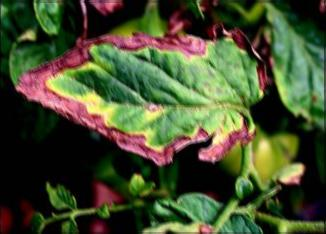Tomato leaf bacterial spot: (14, 22, 266, 168)
